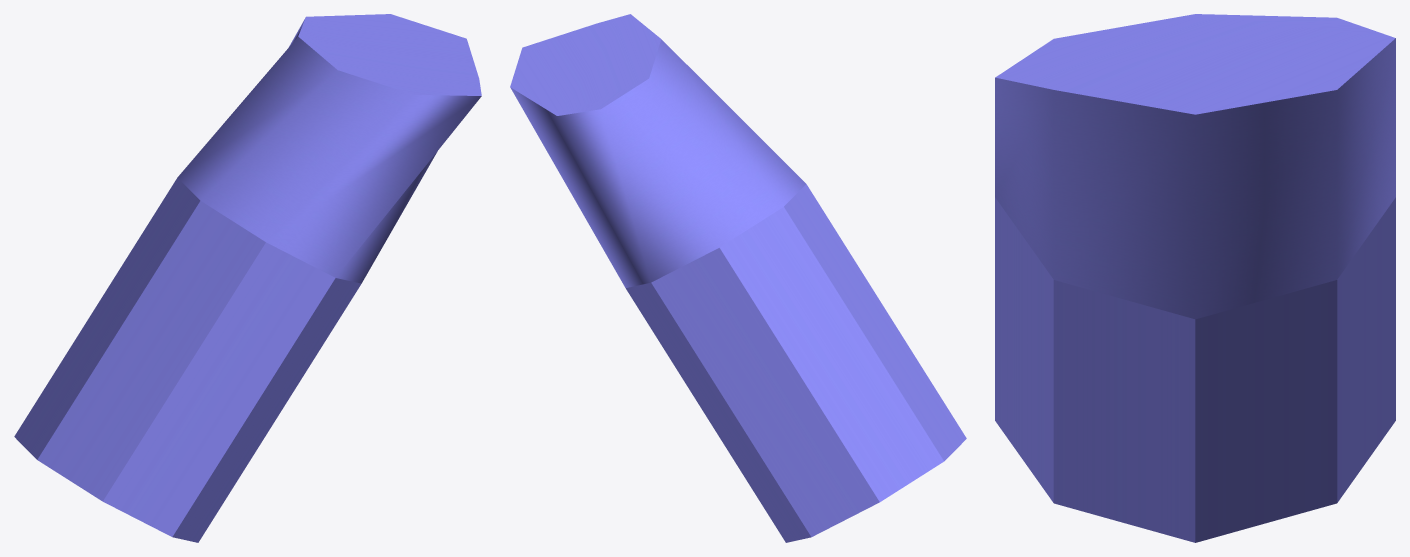
Rendered from Player_LeftArm.obj.
3 renders of one model, left to right at view 1: azimuth 30°, elevation 25°; view 2: azimuth 150°, elevation 25°; view 3: azimuth 270°, elevation 25°, orthographic. The views are drawn at different scales.
Parts seen in each view (by area): view 1: LeftArm; view 2: LeftArm; view 3: LeftArm.
Part boxes in pixels (box(x1,y1,x2,y2)): LeftArm: box(14, 14, 481, 542); LeftArm: box(510, 14, 966, 542); LeftArm: box(995, 14, 1395, 542).
Bounding box in the file's own units: 19.82 × 18.08 × 10.01.
